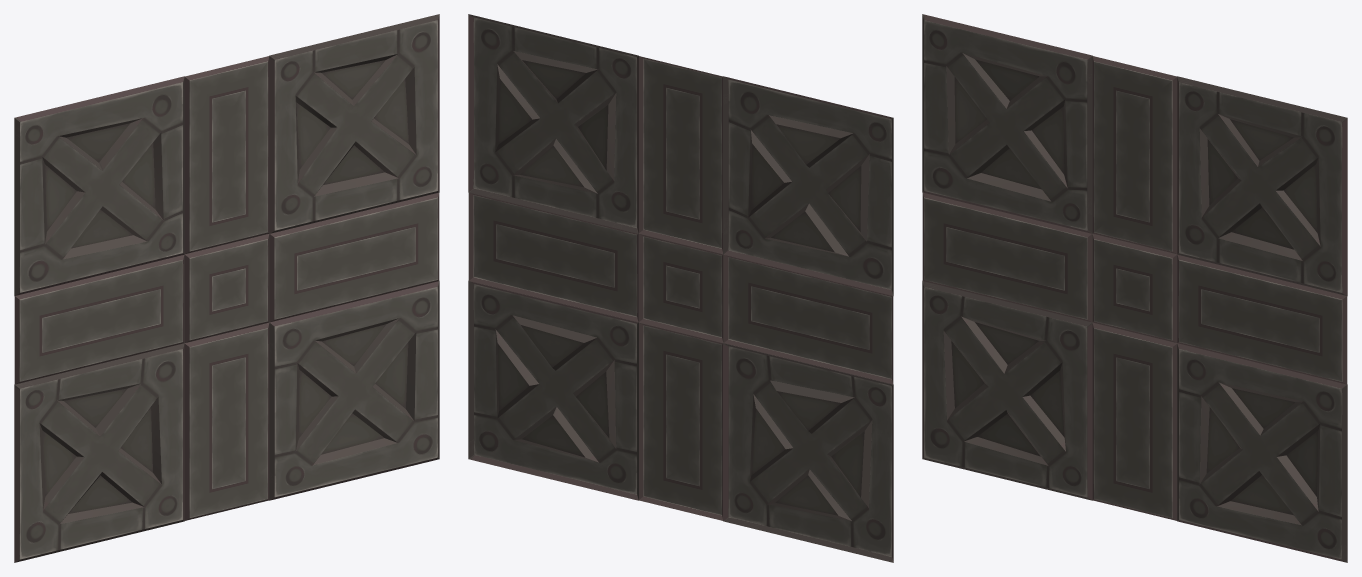
File: inactive_5x5.glb
3 renders of one model, left to right at view 1: azimuth 30°, elevation 25°; view 2: azimuth 150°, elevation 25°; view 3: azimuth 330°, elevation 25°, orthographic.
Parts seen in each view (by area): view 1: inactive.inactive_5x5-Mesh[0], inactive.inactive_5x5-Mesh[1]; view 2: inactive.inactive_5x5-Mesh[0], inactive.inactive_5x5-Mesh[1]; view 3: inactive.inactive_5x5-Mesh[0], inactive.inactive_5x5-Mesh[1].
Part boxes in pixels (box(x1,y1,x2,y2)): inactive.inactive_5x5-Mesh[0]: box(14, 14, 439, 562); inactive.inactive_5x5-Mesh[1]: box(14, 56, 439, 520); inactive.inactive_5x5-Mesh[0]: box(468, 14, 893, 562); inactive.inactive_5x5-Mesh[1]: box(468, 56, 893, 520); inactive.inactive_5x5-Mesh[0]: box(922, 14, 1347, 562); inactive.inactive_5x5-Mesh[1]: box(922, 56, 1347, 520).
Size of the model in its own units: 5.01 by 5.01 by 0.0862.
Materials: 2 (2 with a texture image).
